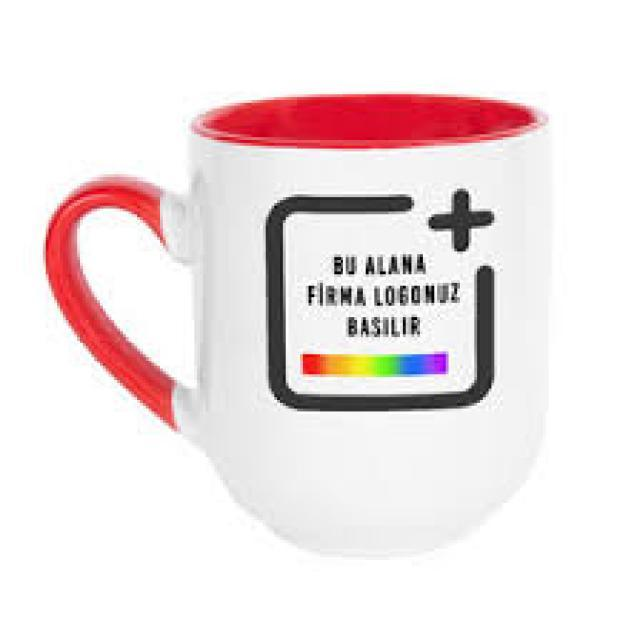taza: (44, 91, 552, 556)
